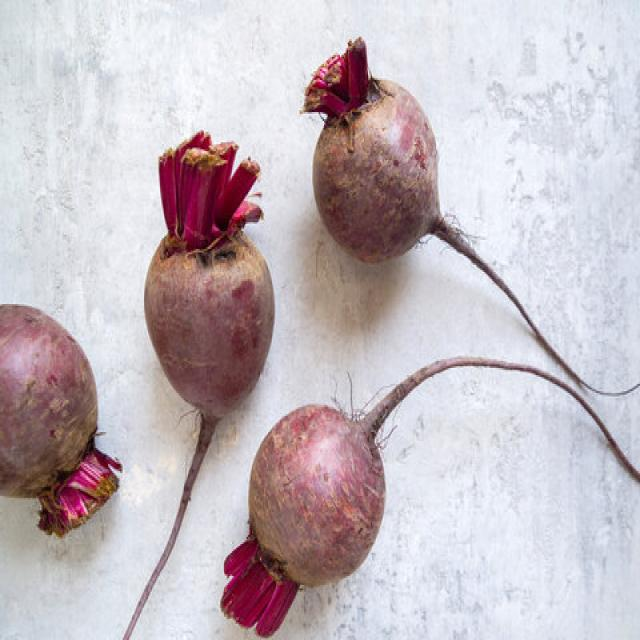Beetroot: (218, 354, 638, 638), (115, 128, 276, 638), (302, 27, 449, 266), (0, 300, 121, 538)
Bell Pepper: (141, 128, 275, 420)
Onion: (36, 441, 121, 537)
